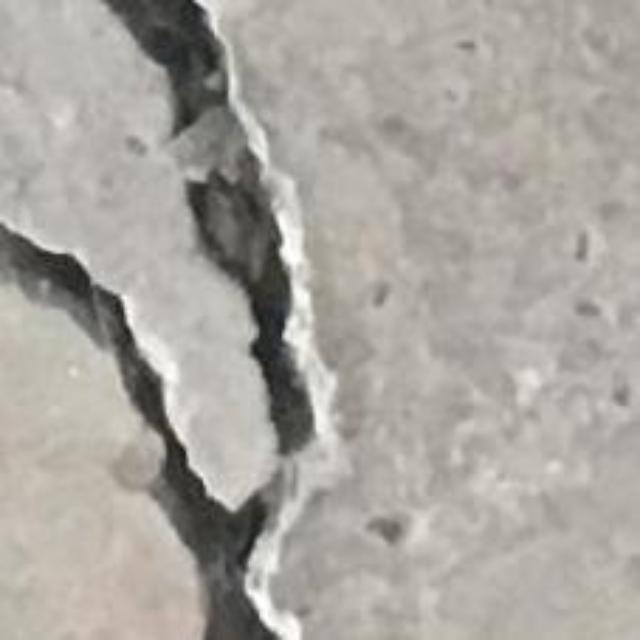crack: (0, 0, 315, 639)
